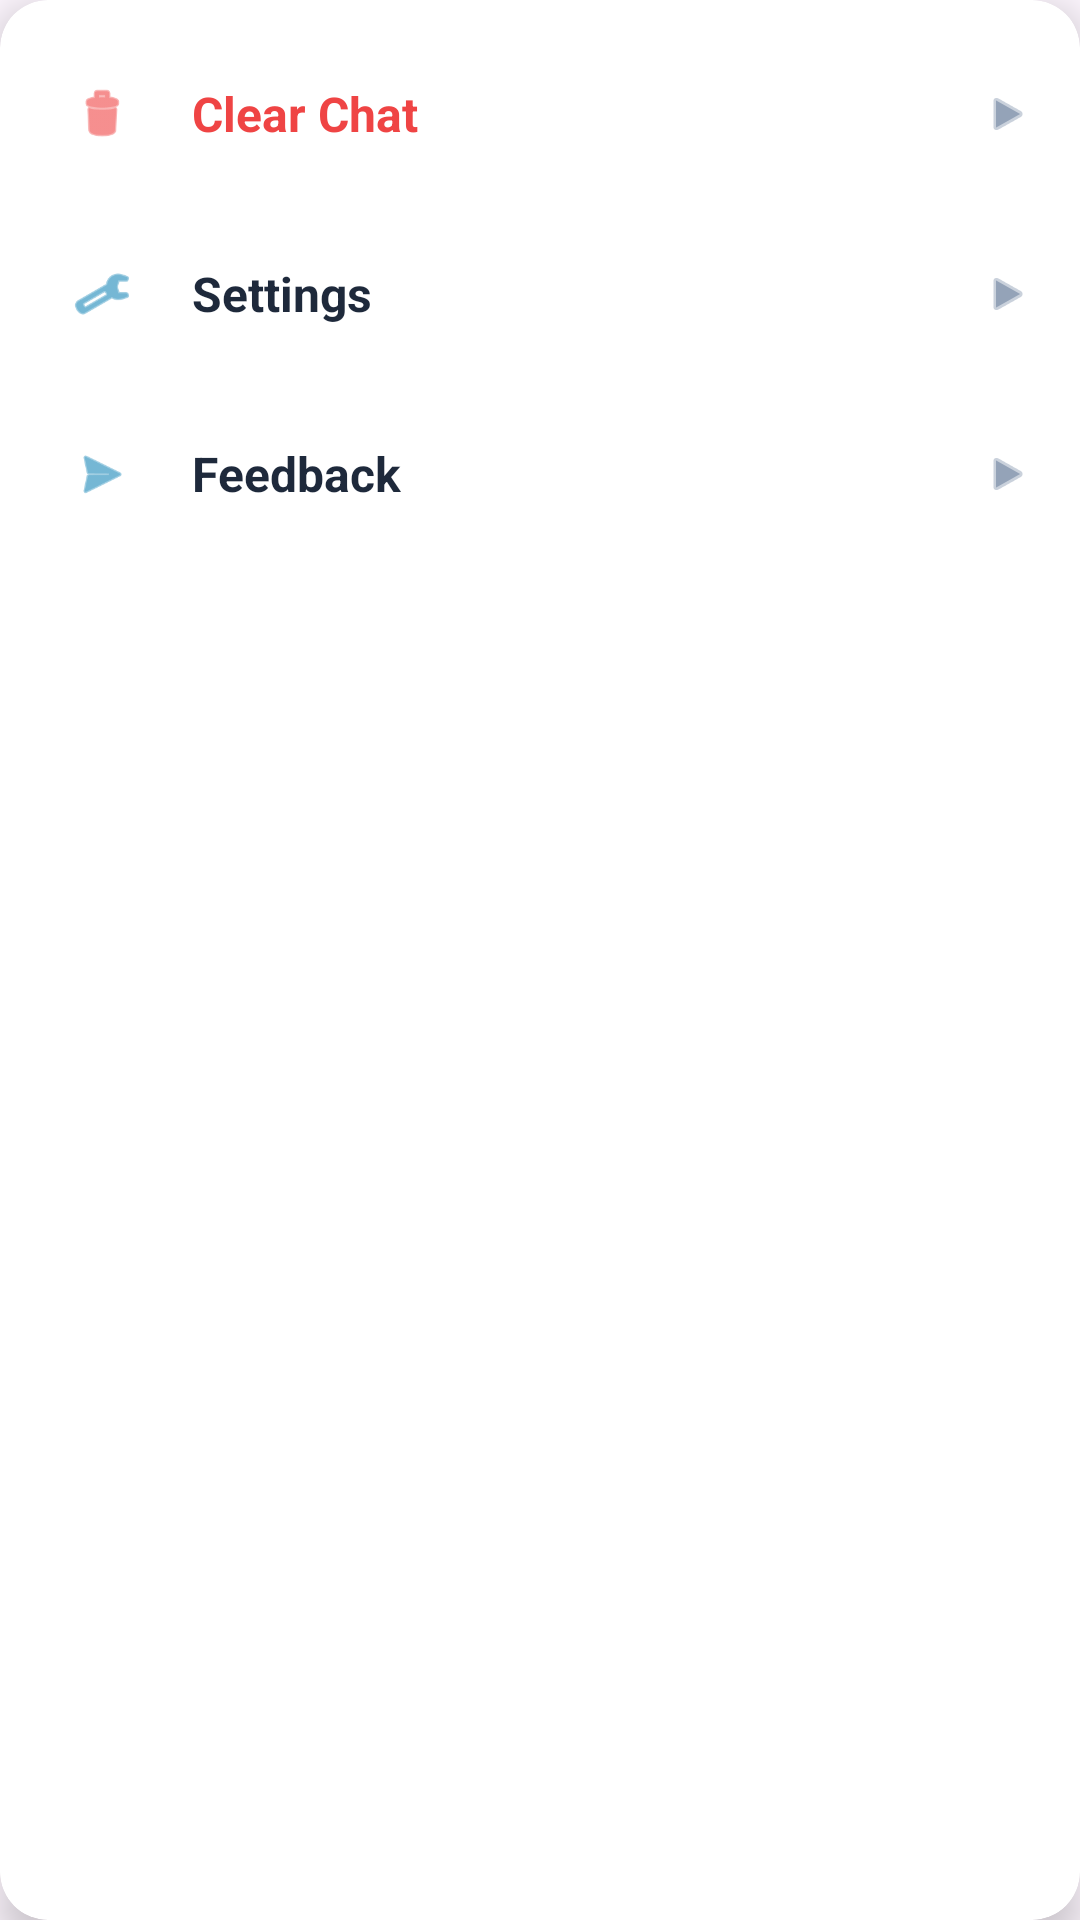

Icons on this 1080w x 1920h Android screen, each with its box as (x1, y1, x2, y2):
Arrow: (993, 98, 1023, 130), (993, 278, 1023, 310), (993, 458, 1023, 490)
